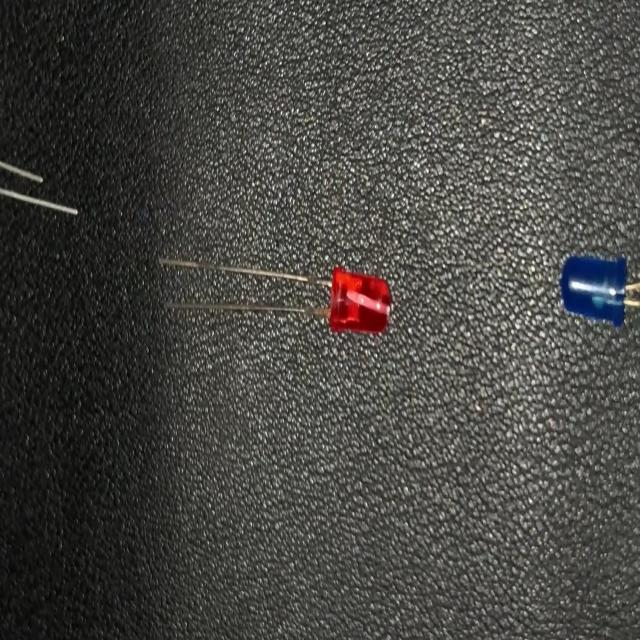LED: (158, 252, 393, 342), (557, 254, 640, 329)
